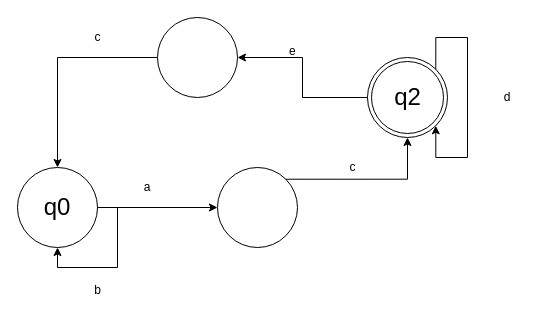
Some shapes in this 555 by 318 pixel diagram are drawn without their labels. Here are the shapes that lost their labels. From the top down, the box of each, then its label:
(156, 16, 238, 98): q3
(216, 166, 298, 248): q1
